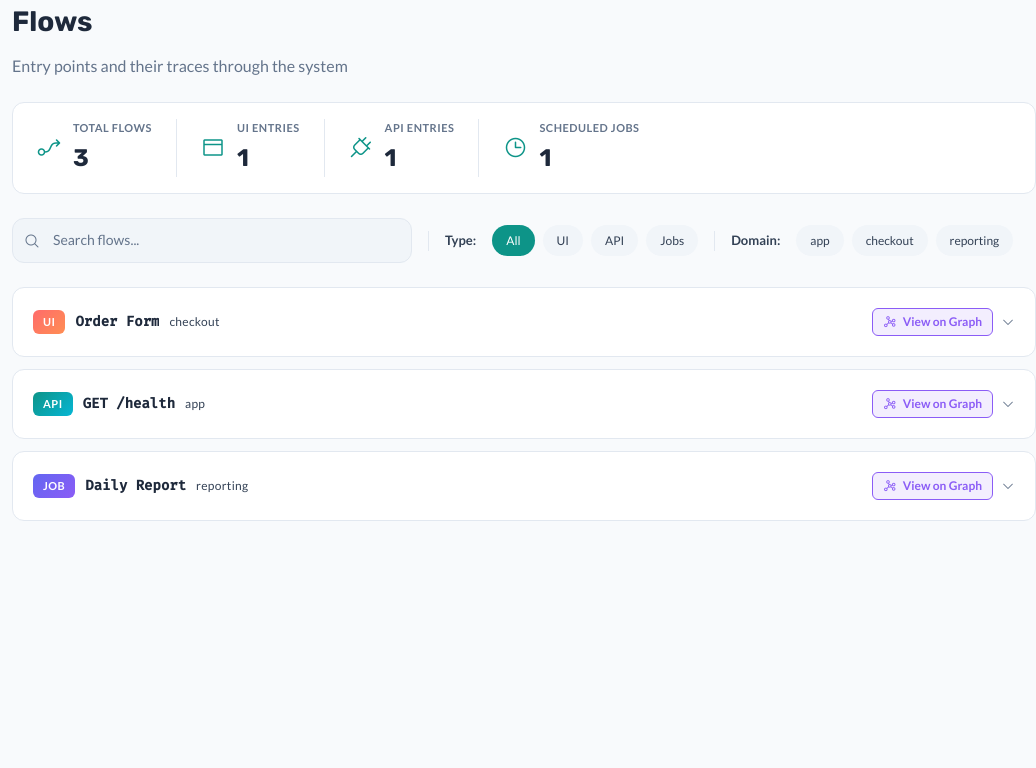
FlowsPage › filtering › filters by API type
Click the button "API" at {"x": 615, "y": 241}, box [591,225,638,256]
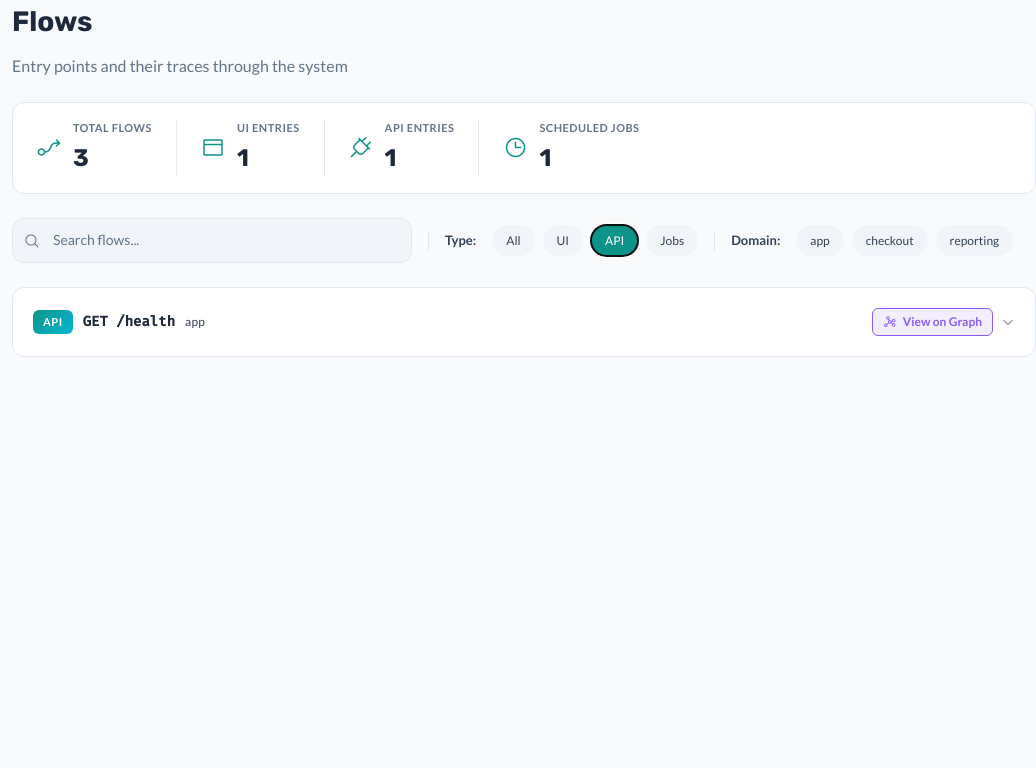
Expected: the text "GET /health" is shown, [83,310,175,334]
Now the button "Order Form" is gone
Now the button "Daily Report" is gone
